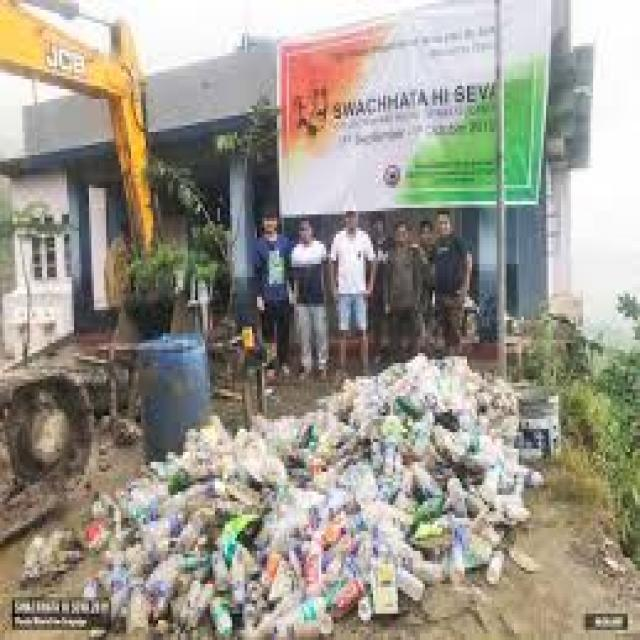heap: (169, 449, 520, 554)
